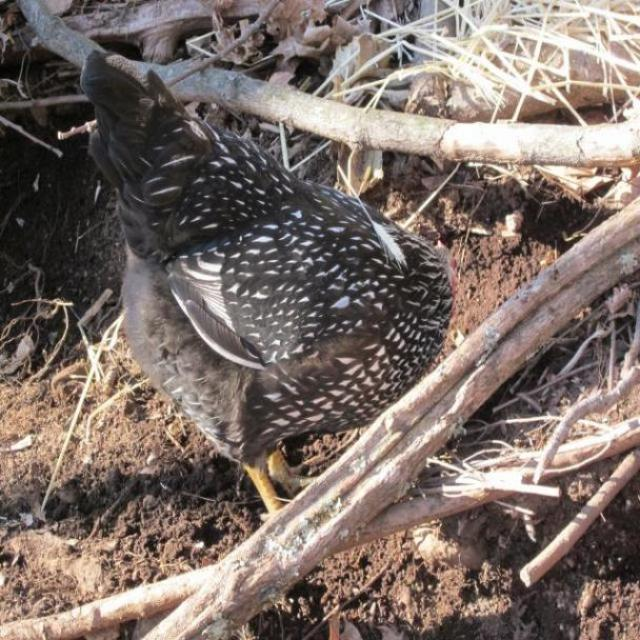Chicken: (74, 37, 461, 511)
